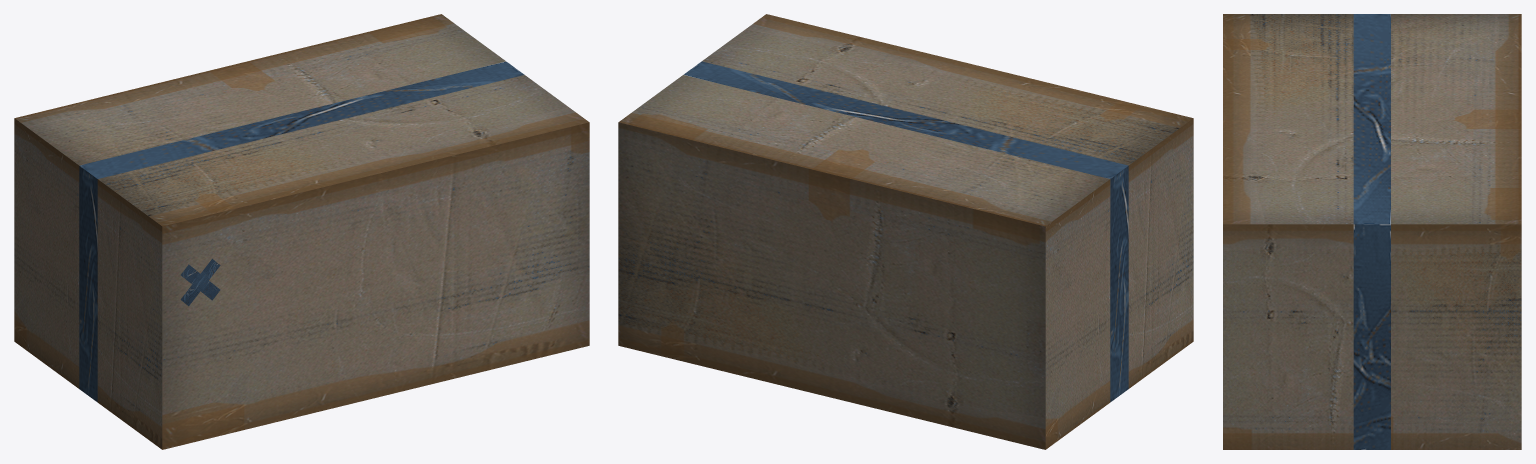
File: CardboardBoxClosed1_SM.fbx
The picture shows the model from 3 angles, left to right: view 1: azimuth 30°, elevation 25°; view 2: azimuth 150°, elevation 25°; view 3: azimuth 270°, elevation 25°; orthographic projection.
Parts seen in each view (by area): view 1: Box001; view 2: Box001; view 3: Box001.
Part boxes in pixels (x1,y1,x2,y2): Box001: [14, 14, 589, 449]; Box001: [618, 14, 1193, 449]; Box001: [1223, 14, 1521, 449].
Size of the model in its own units: 117 by 58.47 by 70.33.
